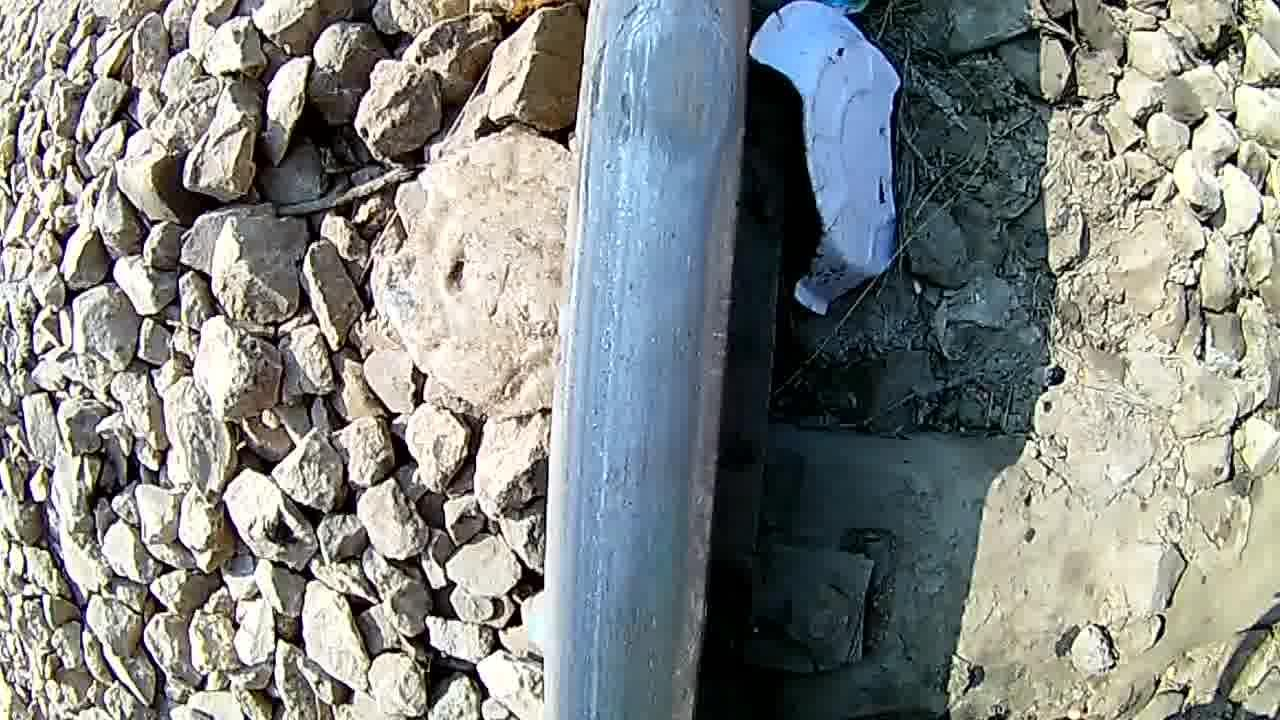bolt_missing: (565, 0, 792, 204)
